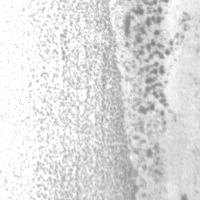pitted_surface: (0, 1, 128, 199), (124, 1, 194, 186)
